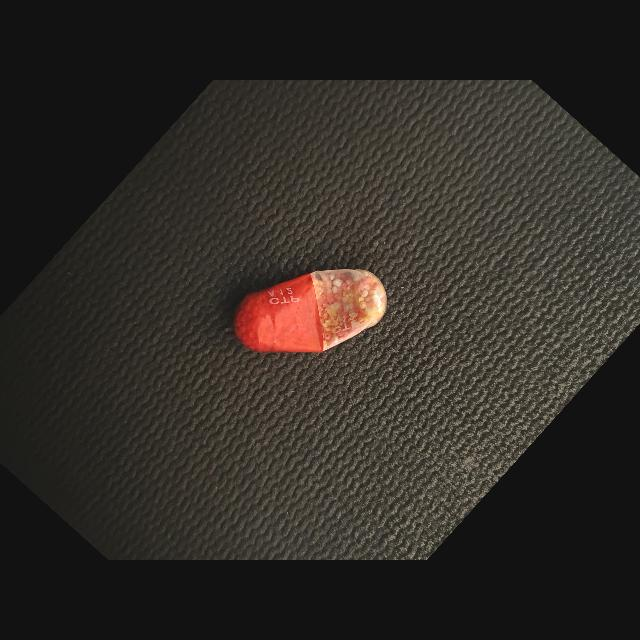Defective Capsule: (233, 269, 387, 352)
